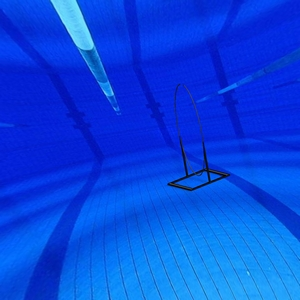circle: (167, 82, 232, 192)
